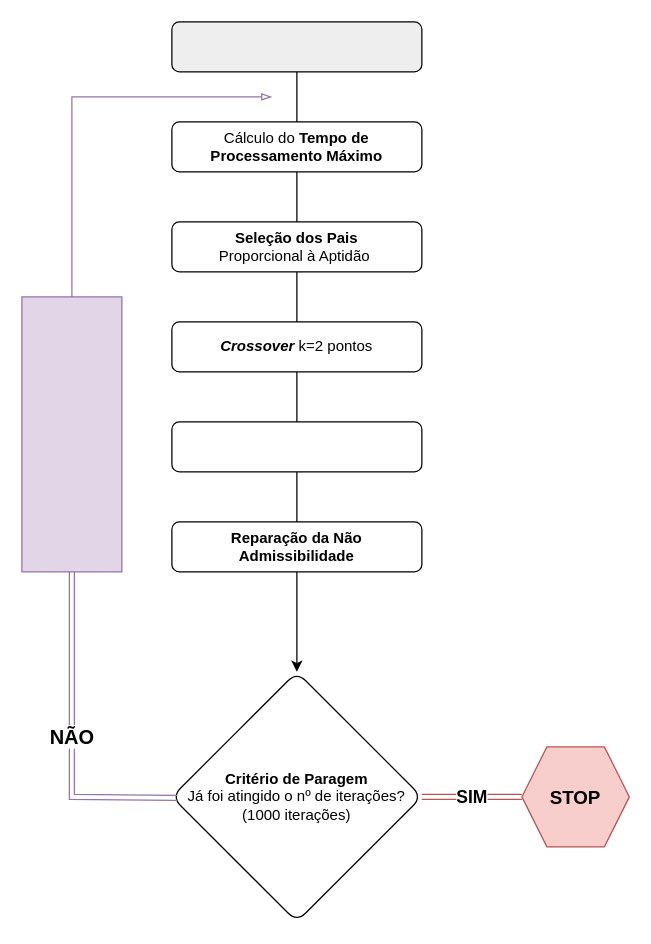
This 651x944 diagram has some shape labels left out. Each missing label, with the centre of its shape:
Gerar a População Inicial Aleatoriamente: the point at 296,46
Mutação por Troca: the point at 296,446
Substituir Toda a População (+ Elitismo): the point at 71,434
